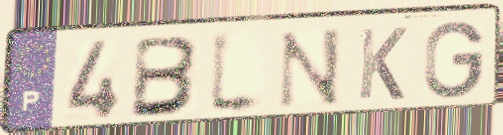4: (63, 37, 123, 123)
B: (127, 34, 203, 121)
G: (420, 19, 488, 102)
K: (355, 25, 410, 103)
L: (205, 27, 267, 118)
N: (274, 25, 344, 112)
